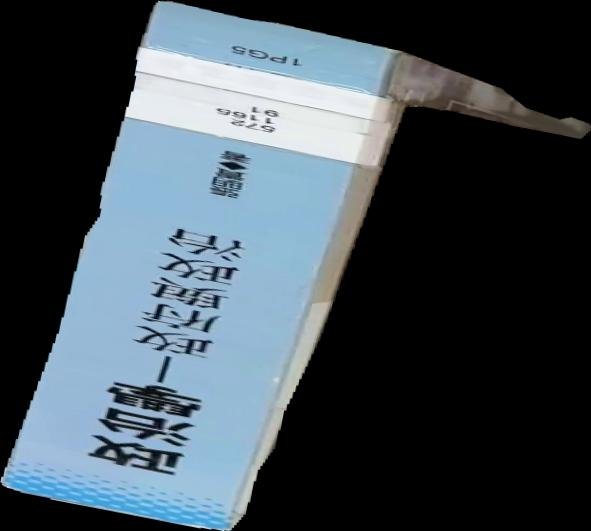reverse: (1, 1, 591, 531)
